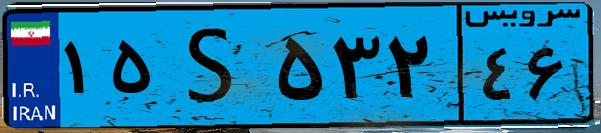1: (57, 26, 110, 100)
2: (385, 28, 445, 110)
3: (330, 28, 385, 110)
4: (475, 38, 525, 113)
5: (270, 28, 330, 110), (110, 28, 158, 98)
6: (525, 38, 570, 115)
S: (158, 12, 270, 120)
